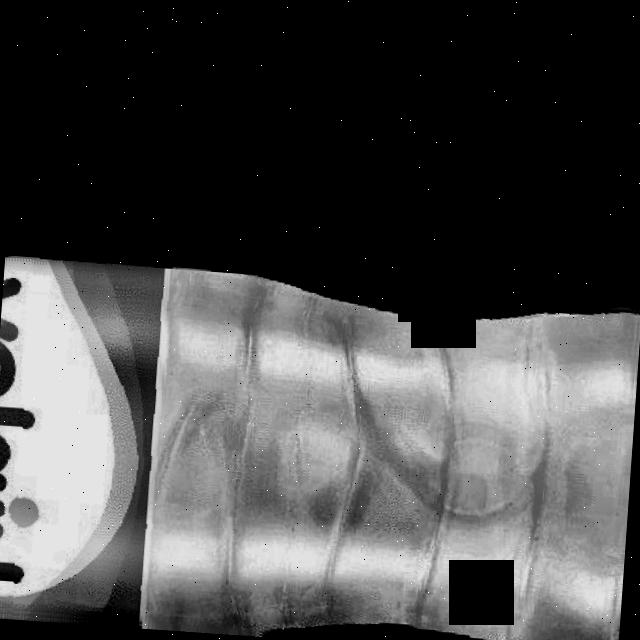bottle: (0, 268, 637, 640)
